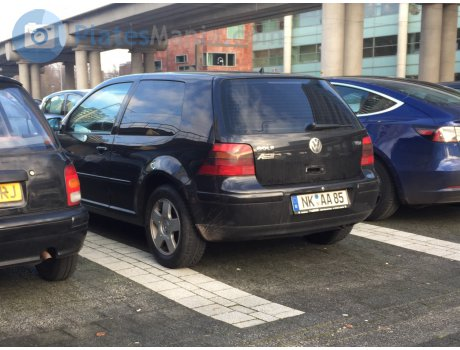License Plates: (297, 194, 347, 204)
